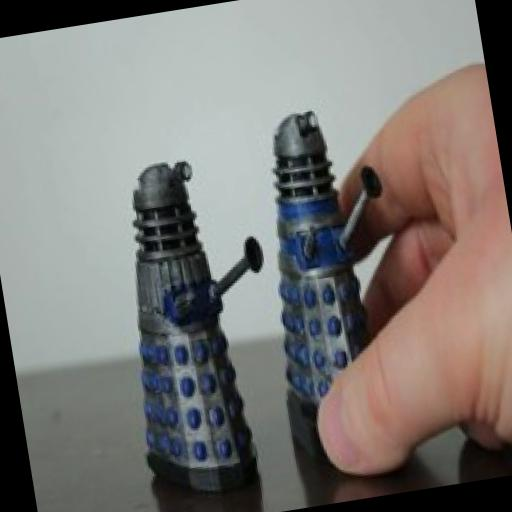dalek: (96, 142, 299, 500), (238, 96, 426, 478)
